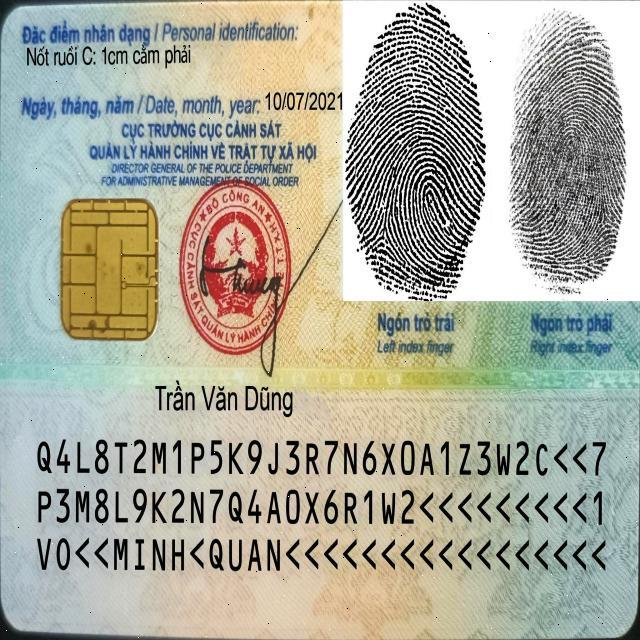features: (20, 42, 212, 78)
finger_print: (341, 0, 498, 360), (496, 0, 640, 363)
issue_date: (262, 85, 345, 117)
